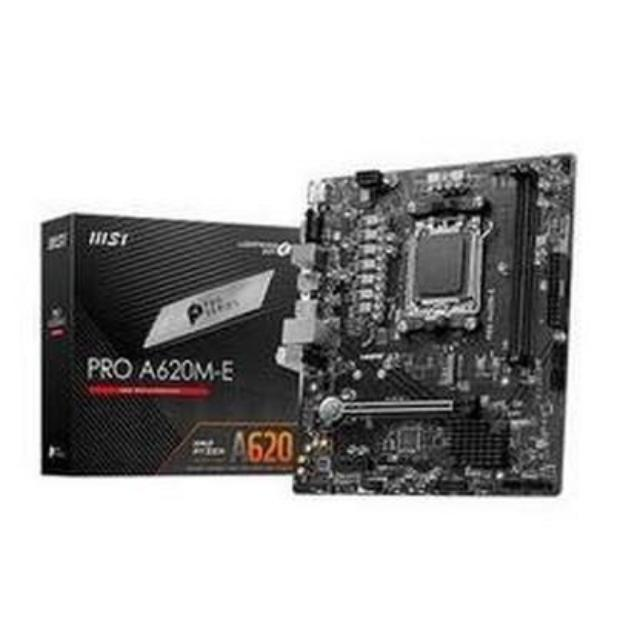Mainboard: (289, 146, 582, 506)
